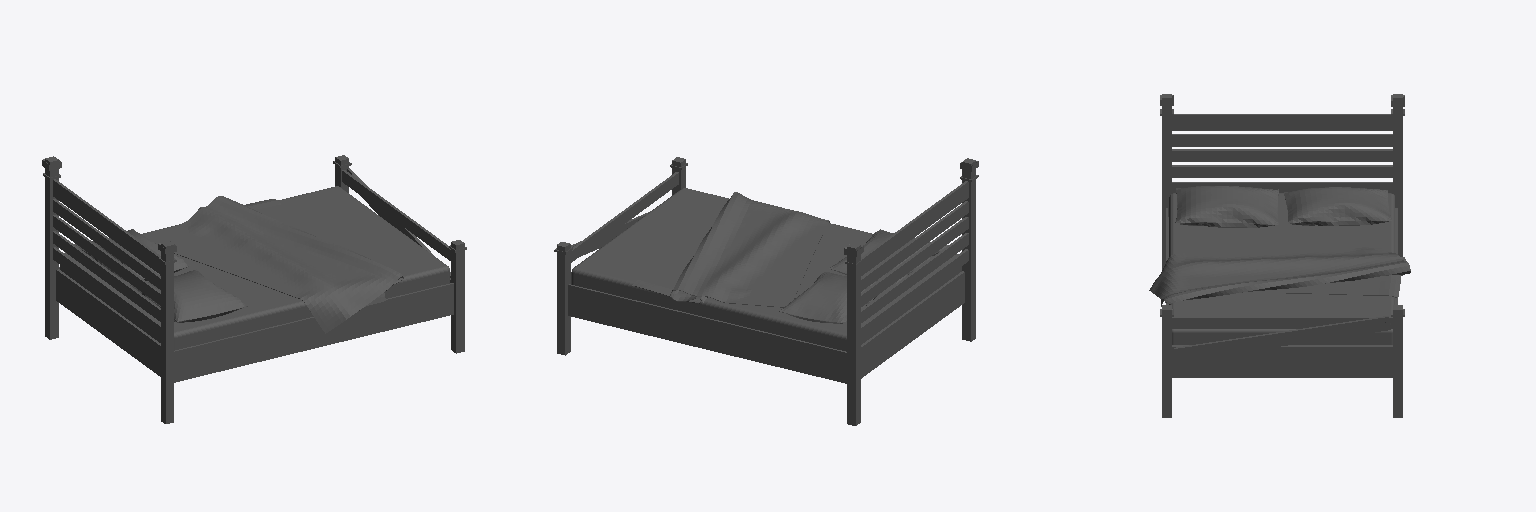
The model's file is bed.obj.
The picture shows the model from 3 angles: view 1: azimuth 30°, elevation 25°; view 2: azimuth 150°, elevation 25°; view 3: azimuth 270°, elevation 25°; orthographic projection.
Parts seen in each view (by area): view 1: Blanket_bed, Mattress_bed, Support_bed, Edges_bed, Legs_bed, Pillow_bed1, Pillow_bed2; view 2: Mattress_bed, Blanket_bed, Support_bed, Edges_bed, Legs_bed, Pillow_bed2, Pillow_bed1; view 3: Edges_bed, Blanket_bed, Mattress_bed, Support_bed, Legs_bed, Pillow_bed1, Pillow_bed2.
Part boxes in pixels (bbox=[...]): Blanket_bed: bbox=[150, 196, 403, 333]; Mattress_bed: bbox=[60, 186, 449, 350]; Support_bed: bbox=[56, 267, 453, 382]; Edges_bed: bbox=[53, 168, 450, 337]; Legs_bed: bbox=[42, 155, 466, 423]; Pillow_bed1: bbox=[130, 269, 247, 322]; Pillow_bed2: bbox=[74, 229, 190, 280]; Mattress_bed: bbox=[571, 188, 961, 351]; Blanket_bed: bbox=[632, 192, 829, 307]; Support_bed: bbox=[568, 271, 964, 383]; Edges_bed: bbox=[571, 172, 968, 339]; Legs_bed: bbox=[554, 157, 978, 425]; Pillow_bed2: bbox=[779, 271, 876, 323]; Pillow_bed1: bbox=[829, 229, 947, 283]; Edges_bed: bbox=[1172, 114, 1392, 361]; Blanket_bed: bbox=[1149, 226, 1410, 306]; Mattress_bed: bbox=[1169, 193, 1394, 344]; Support_bed: bbox=[1166, 208, 1397, 377]; Legs_bed: bbox=[1160, 94, 1404, 417]; Pillow_bed1: bbox=[1175, 186, 1278, 227]; Pillow_bed2: bbox=[1284, 187, 1391, 225].
Size of the model in its own units: 3.08 by 1.73 by 2.31.